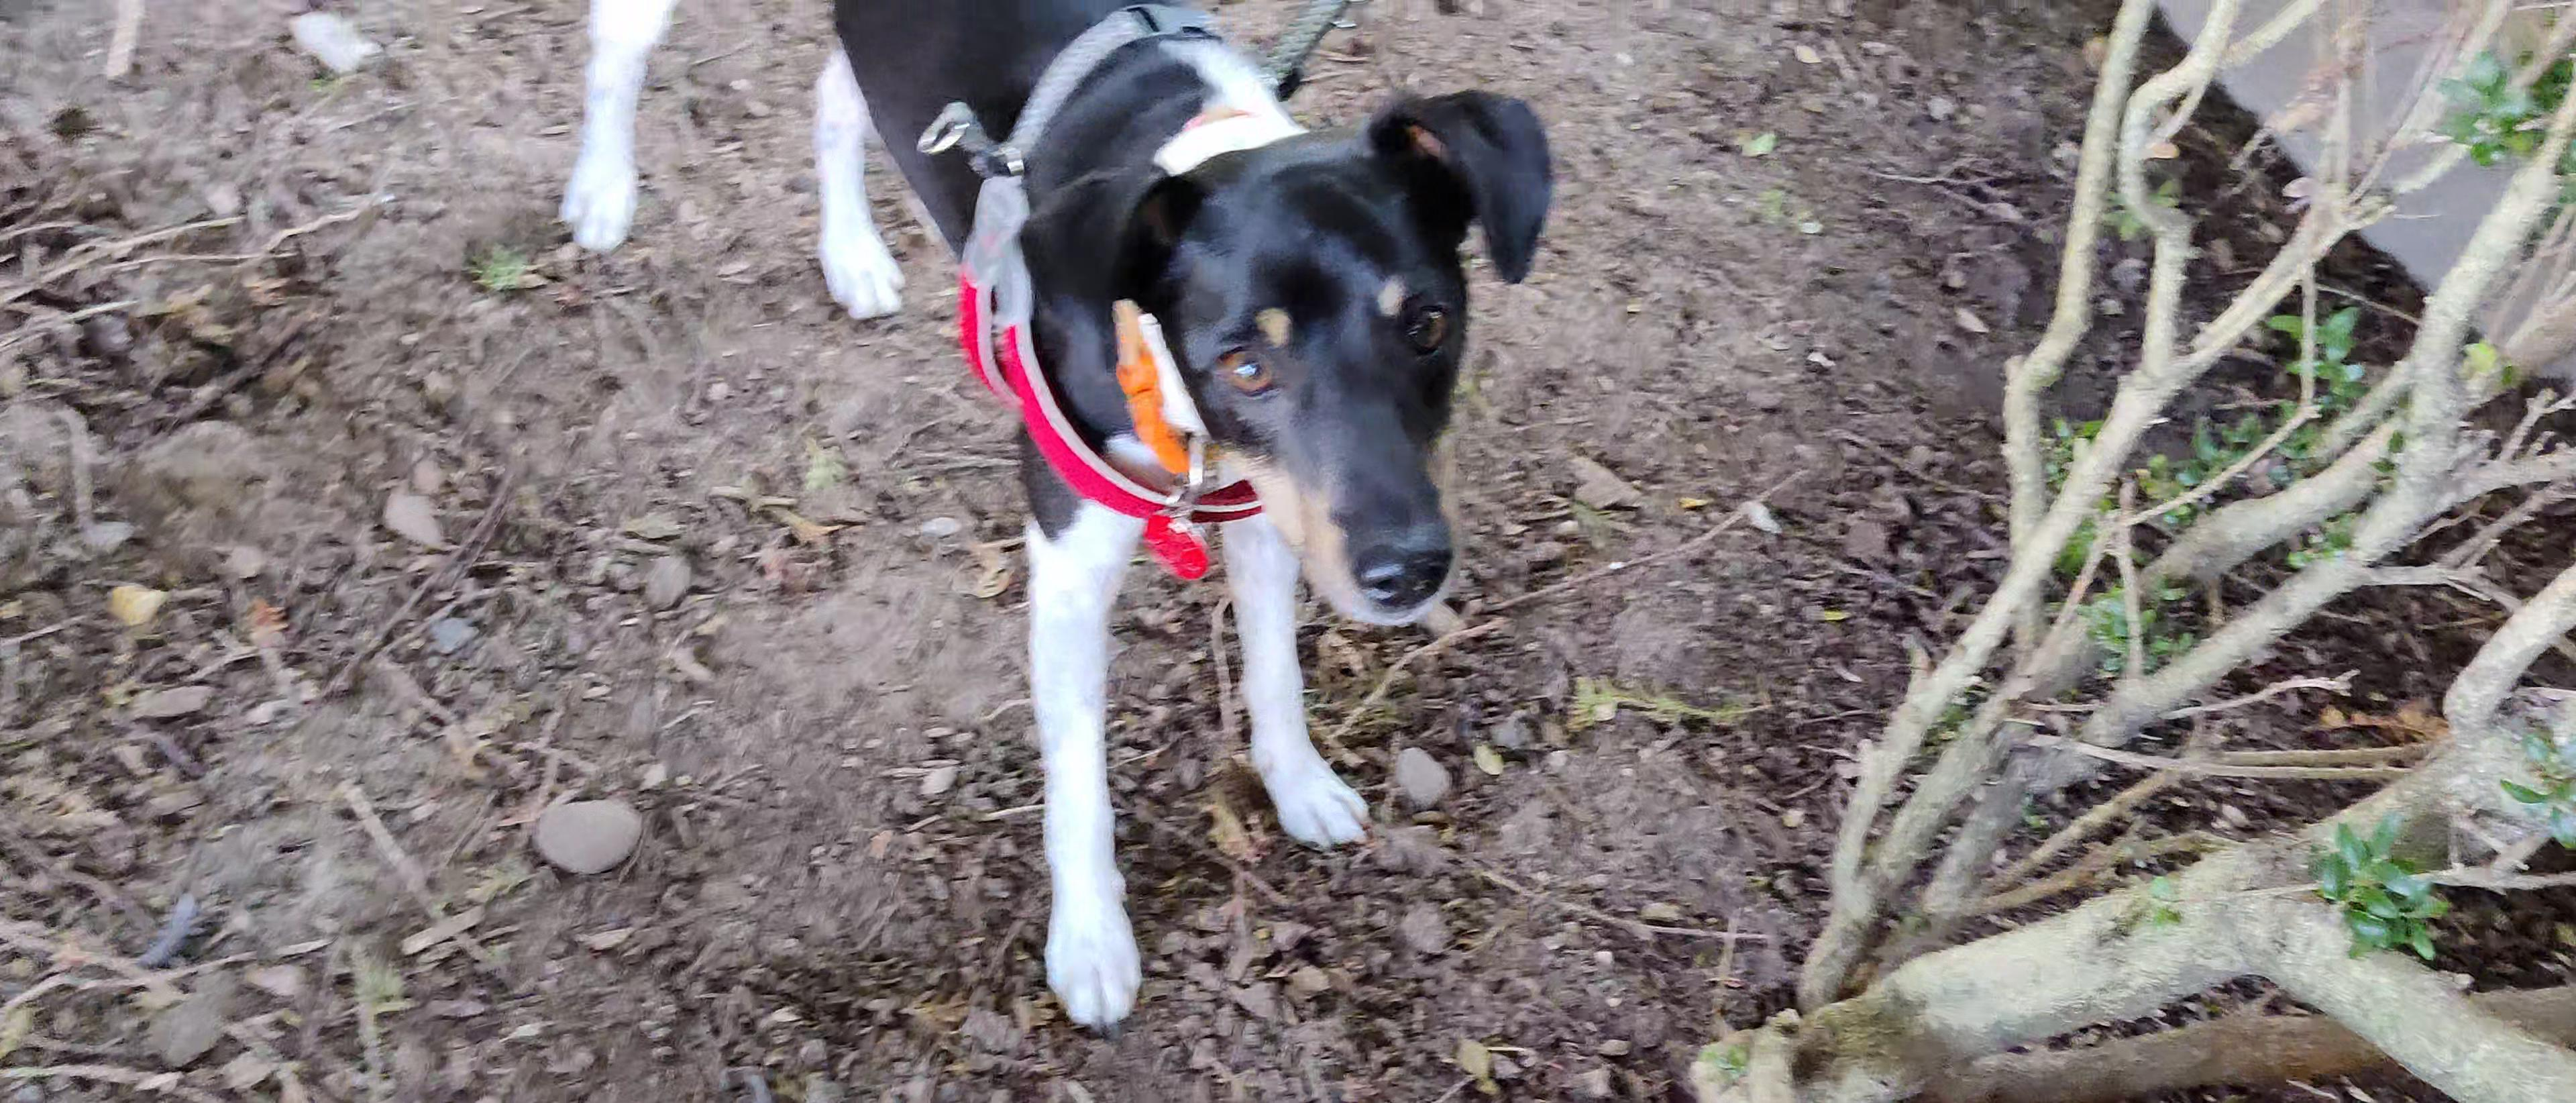Dog: (536, 0, 1571, 1041)
